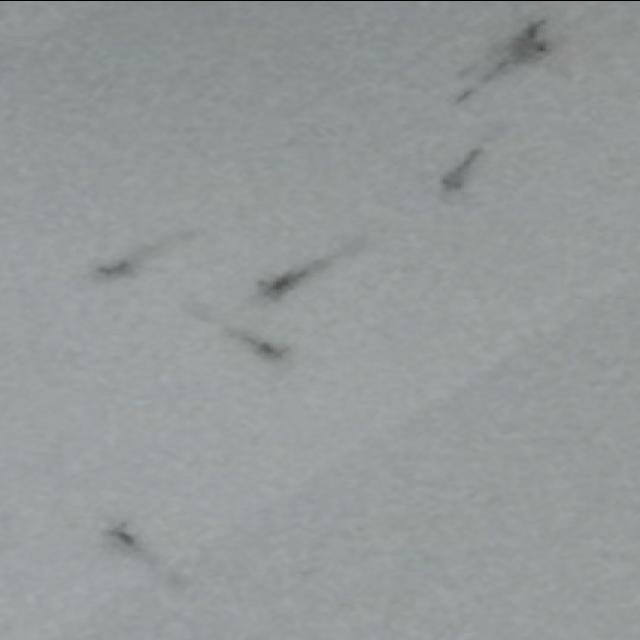shrimp-seed: (435, 146, 489, 194), (254, 264, 312, 304), (233, 324, 290, 360), (90, 251, 142, 283), (95, 520, 146, 551), (514, 36, 560, 66), (504, 17, 546, 45)
